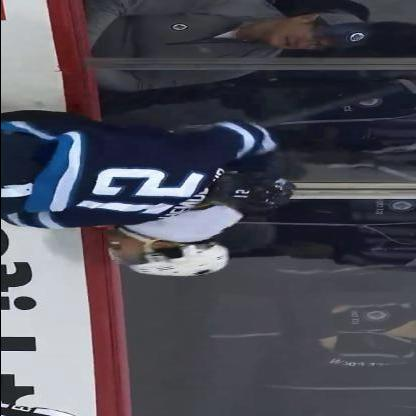voilence: (0, 109, 298, 277)
